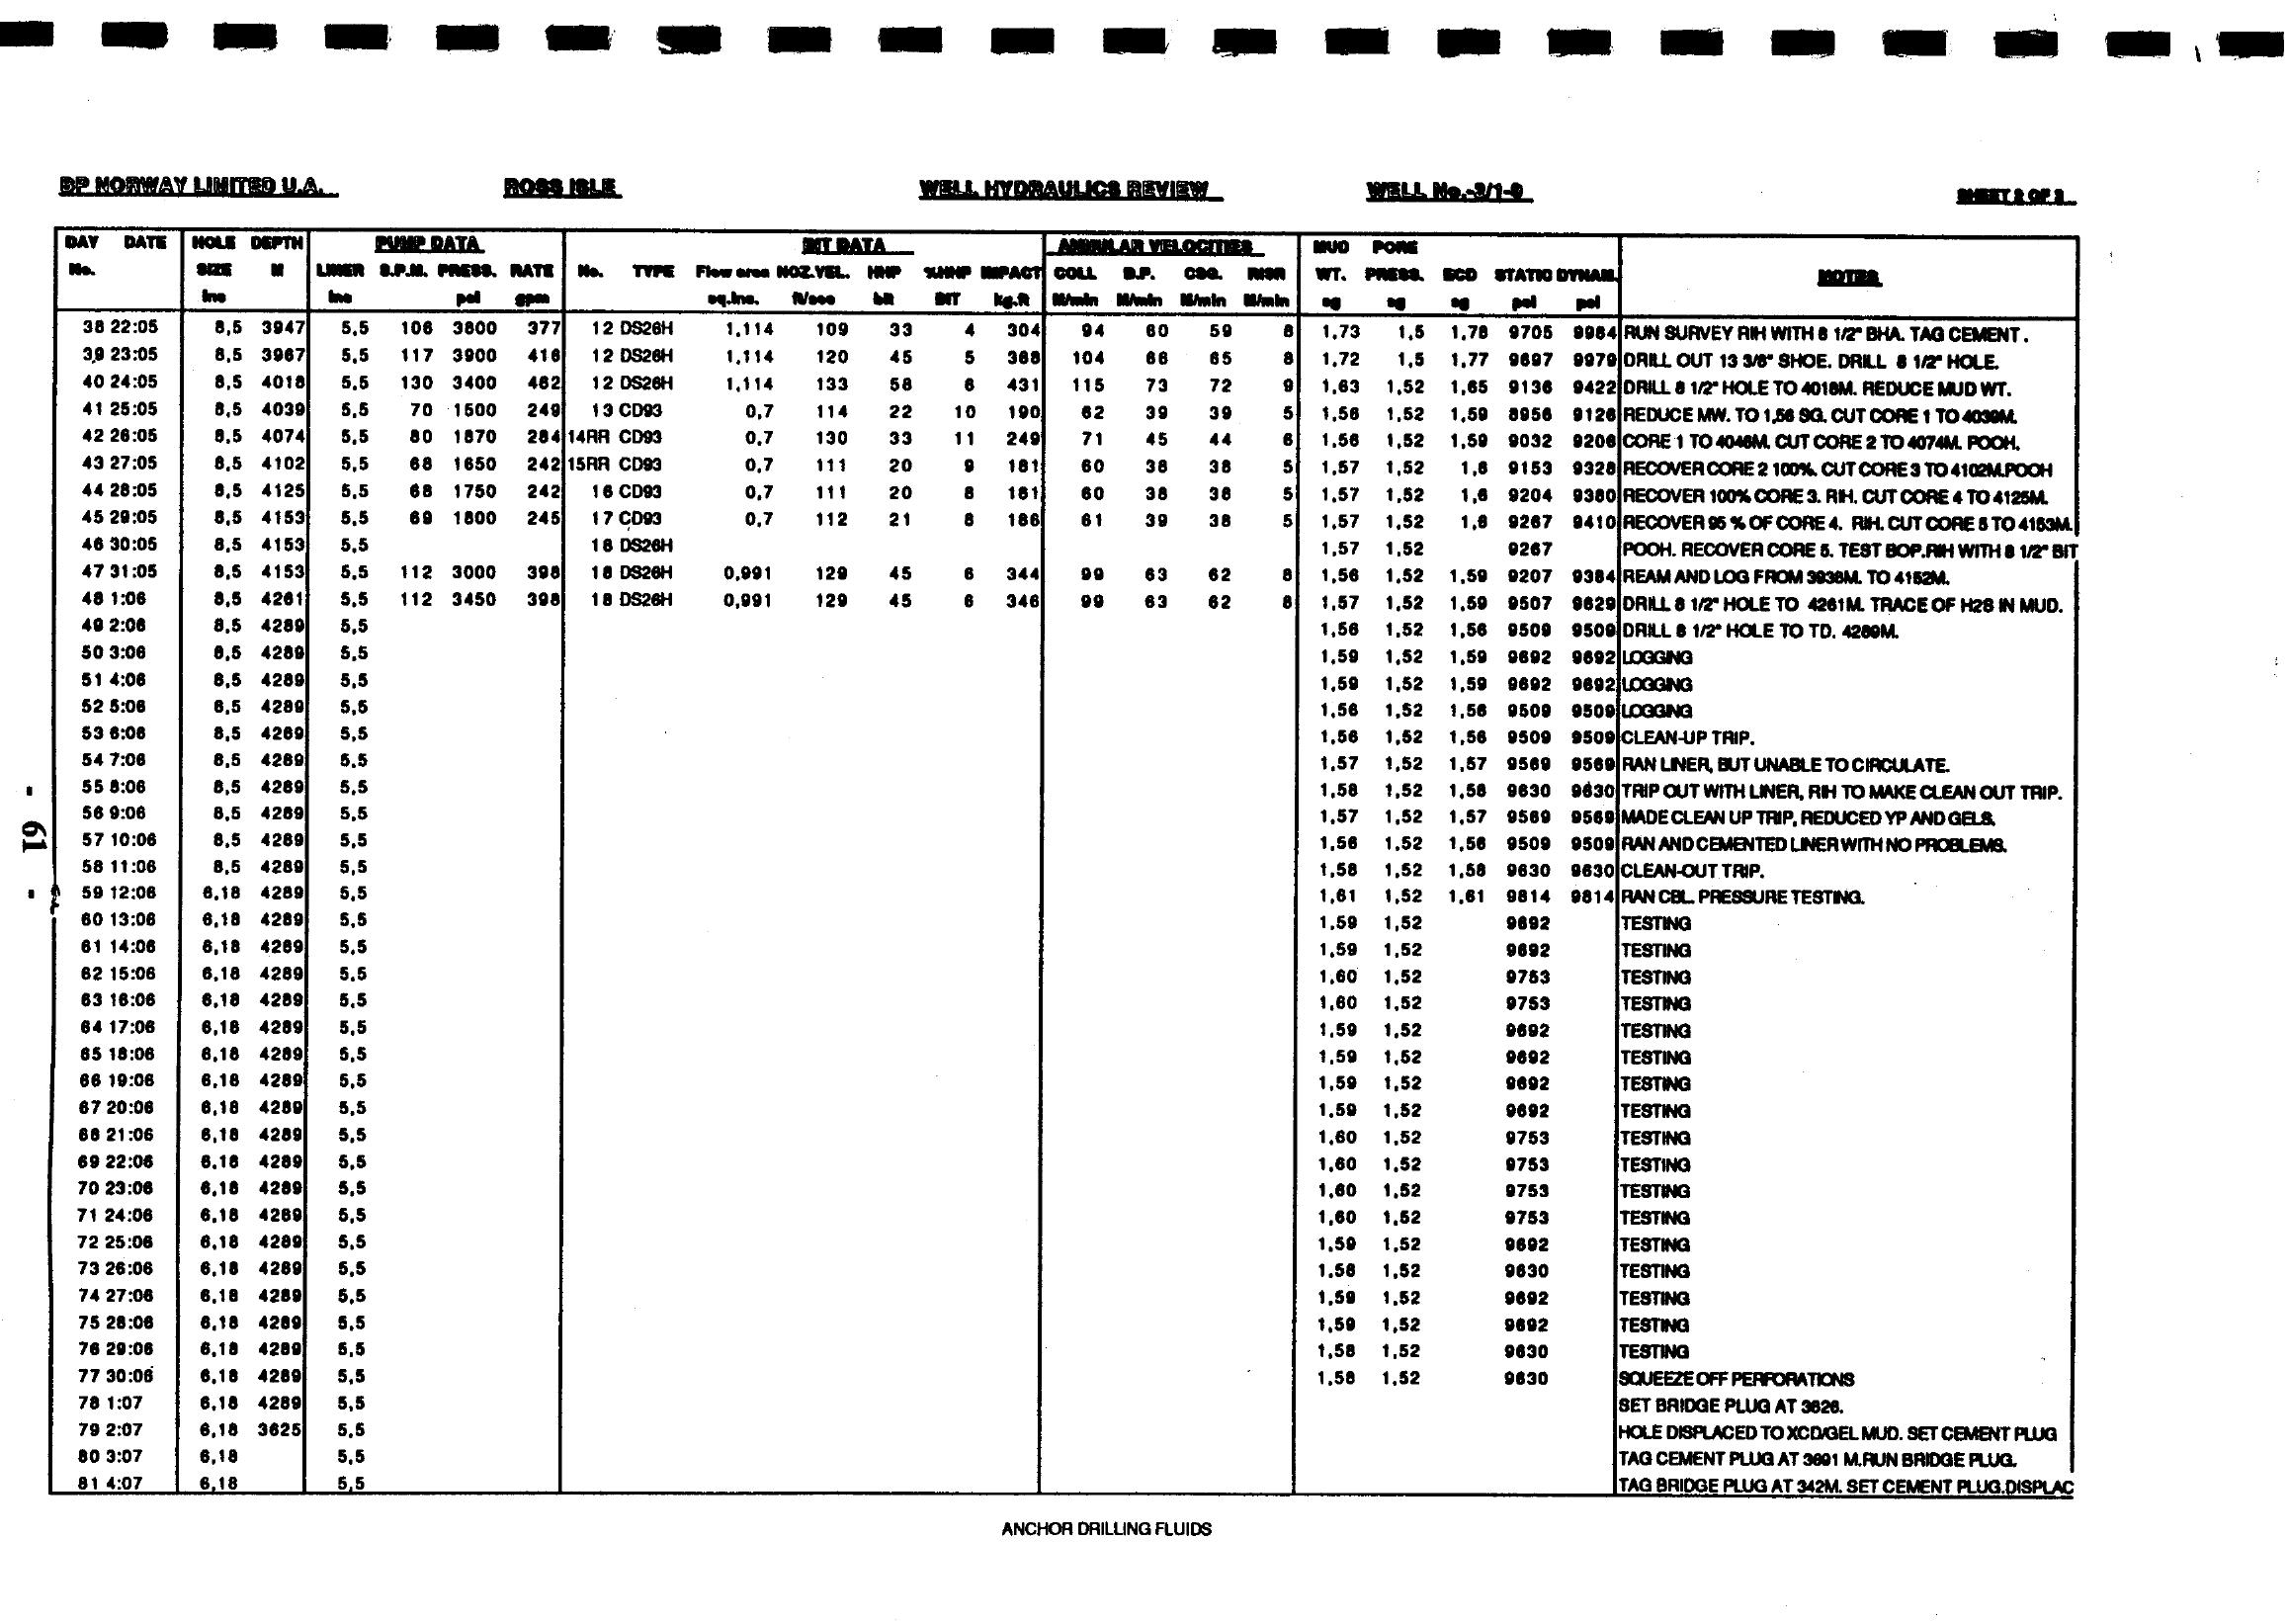table: (35, 163, 2169, 1550)
